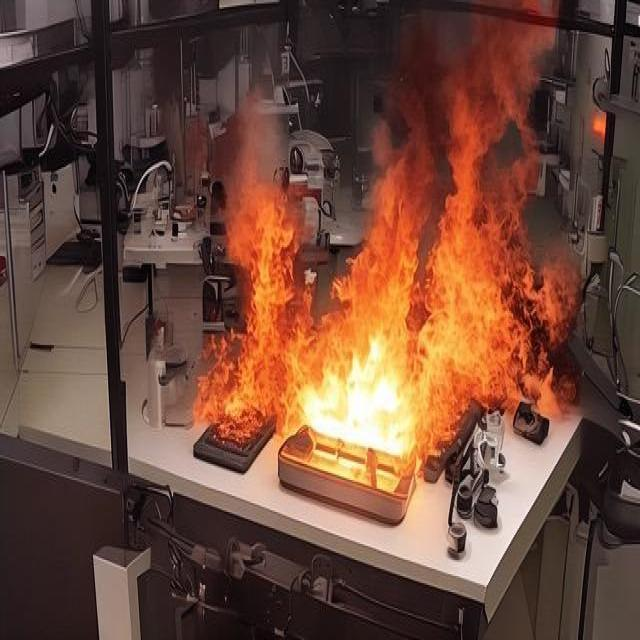smoke: (225, 106, 490, 472)
